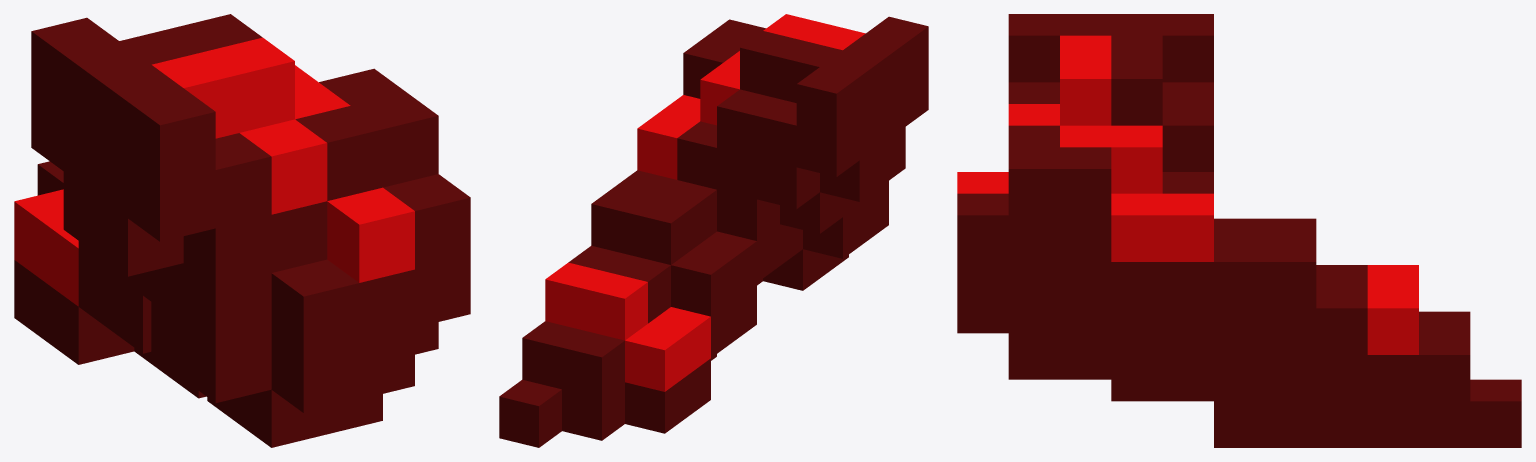
File: generation_of_chaos_1-0.obj
3 views of the same model, side by side, from view 1: azimuth 30°, elevation 25°; view 2: azimuth 150°, elevation 25°; view 3: azimuth 270°, elevation 25° (orthographic). The views are drawn at different scales.
Bounding box in the file's own units: 0.5 × 0.7 × 1.1.
1 material, 1 textured.
